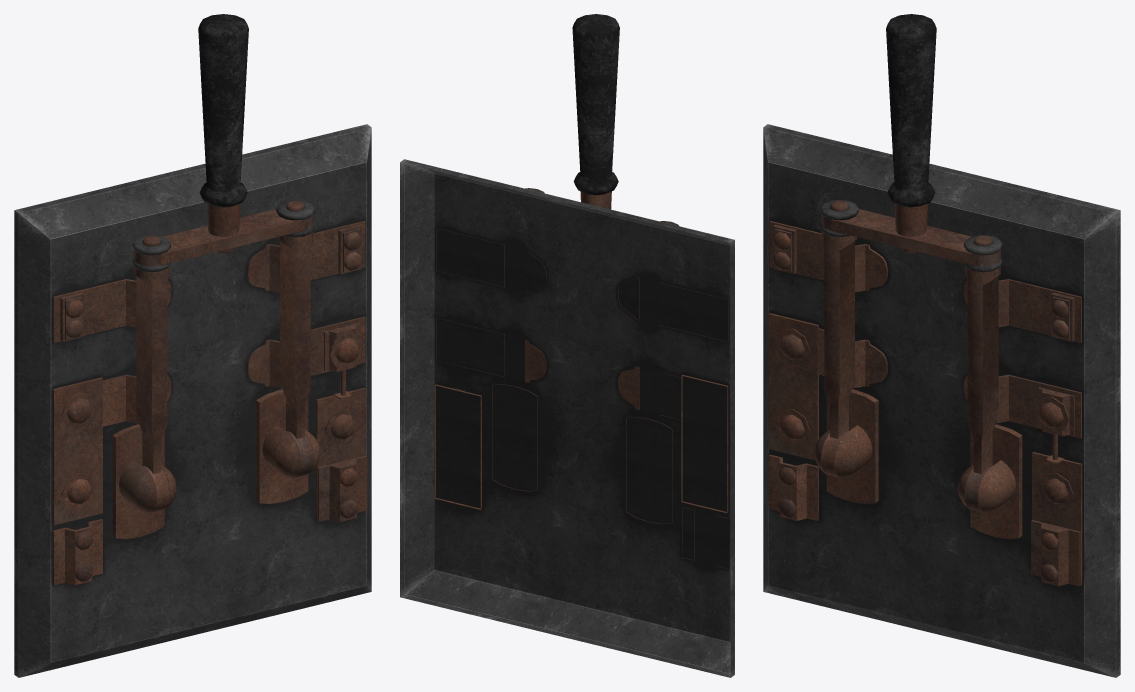
The model's file is Lever05.glb.
3 views of the same model, side by side, from view 1: azimuth 30°, elevation 25°; view 2: azimuth 150°, elevation 25°; view 3: azimuth 330°, elevation 25° (orthographic). The views are drawn at different scales.
Visible parts, largest first — view 1: Plane_005, Cube_015; view 2: Plane_005, Cube_015; view 3: Plane_005, Cube_015.
Boxes of the visible parts, box(x1,y1,x2,y2) form: Plane_005: box(14, 124, 371, 677); Cube_015: box(132, 14, 314, 511); Plane_005: box(400, 159, 734, 677); Cube_015: box(525, 14, 678, 225); Plane_005: box(763, 124, 1120, 677); Cube_015: box(820, 14, 1002, 511).
Bounding box in the file's own units: 0.9312 × 1.6 × 0.2081.
Materials: 1 (1 with a texture image).
